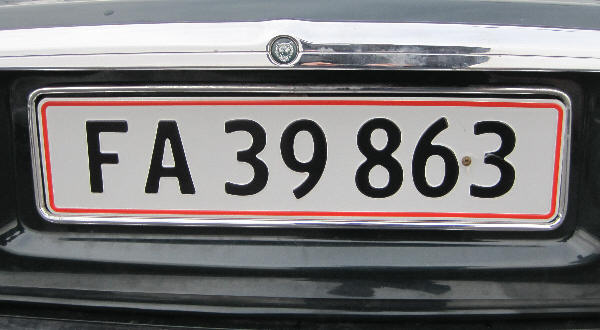license_plate: (36, 94, 567, 227)
